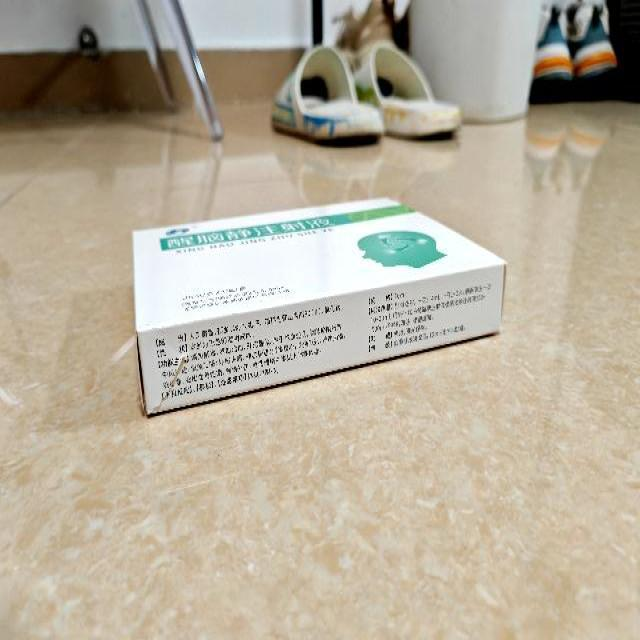box: (131, 198, 507, 421)
